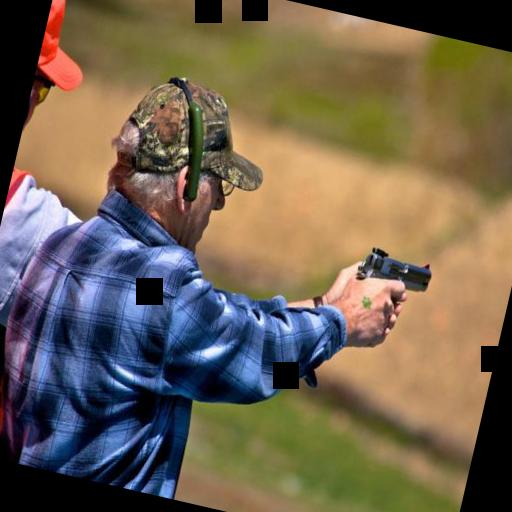Handgun: (348, 239, 437, 319)
